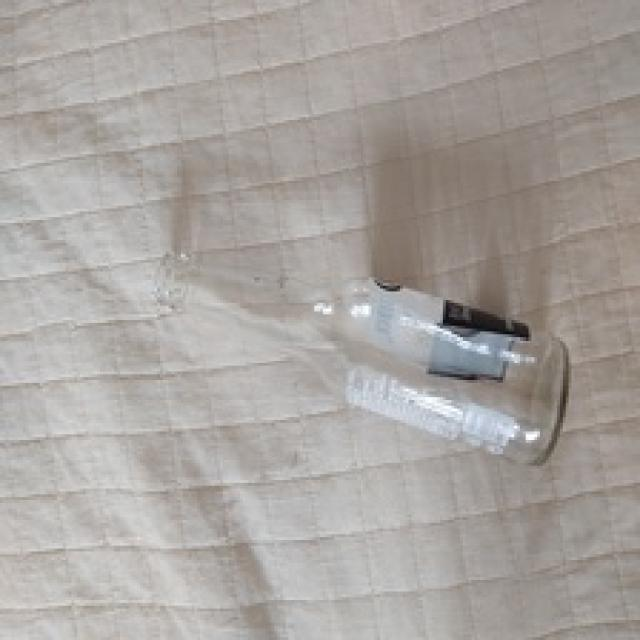Glass: (150, 251, 573, 468)
